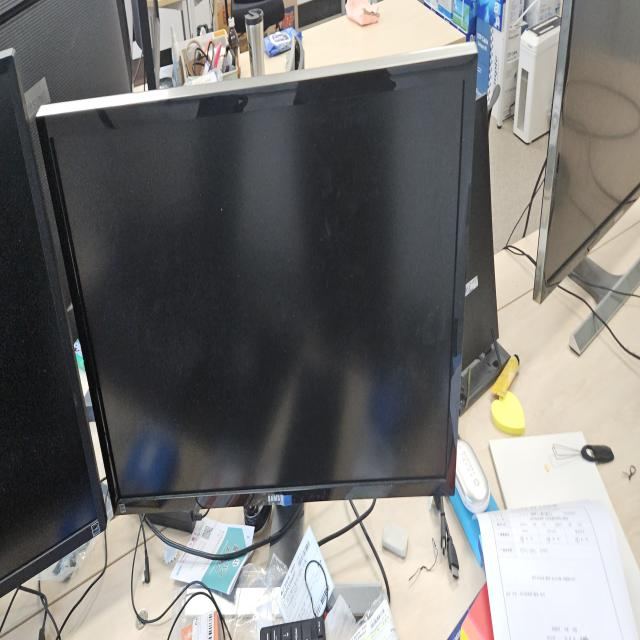Monitor: (34, 39, 481, 532)
